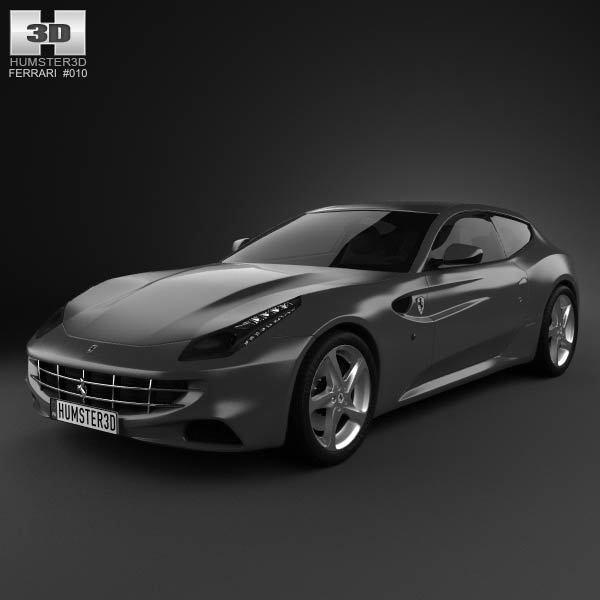car: (21, 195, 588, 478)
